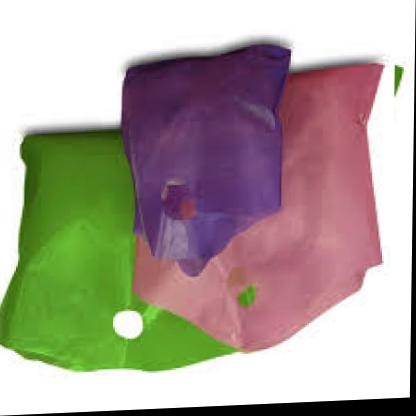trash: (0, 44, 382, 370)
